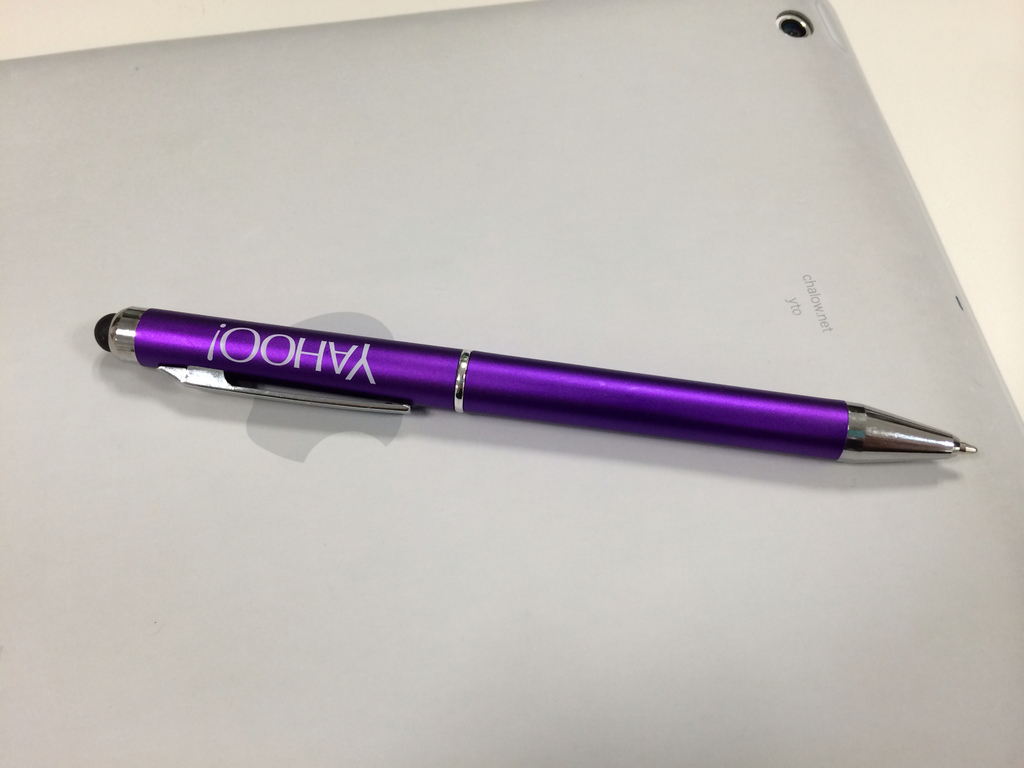Pen: (90, 305, 979, 463)
